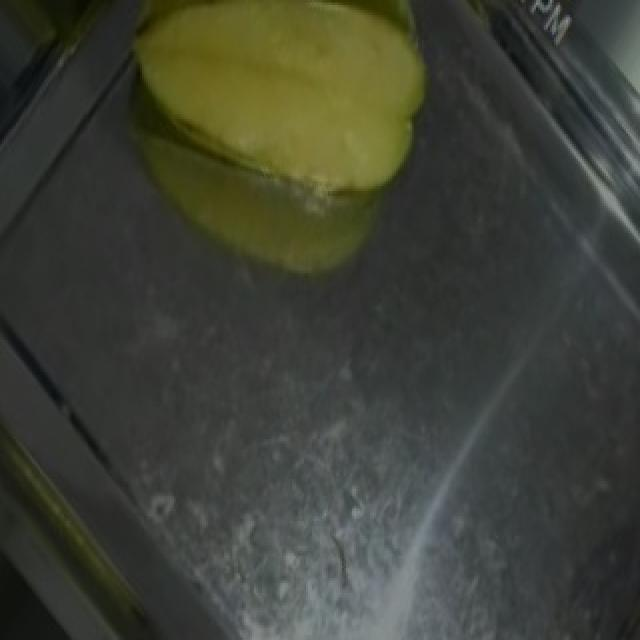fruit: (94, 0, 478, 283)
